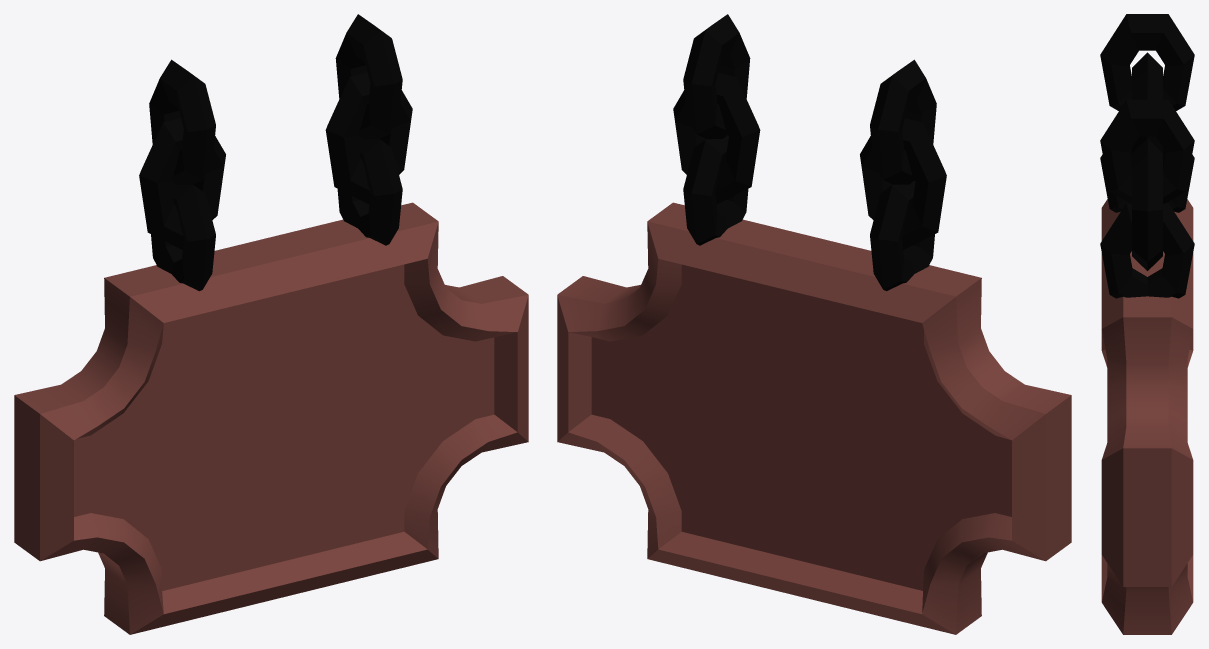
Rendered from Singboard_01.fbx.
The picture shows the model from 3 angles, left to right: view 1: azimuth 30°, elevation 25°; view 2: azimuth 150°, elevation 25°; view 3: azimuth 270°, elevation 25°; orthographic projection. The views are drawn at different scales.
Parts seen in each view (by area): view 1: Singboard_01; view 2: Singboard_01; view 3: Singboard_01.
Part boxes in pixels (<box>): Singboard_01: <box>14,14,528,634</box>; Singboard_01: <box>557,14,1071,634</box>; Singboard_01: <box>1100,14,1194,634</box>.
Bounding box in the file's own units: 143 × 151 × 25.44.
